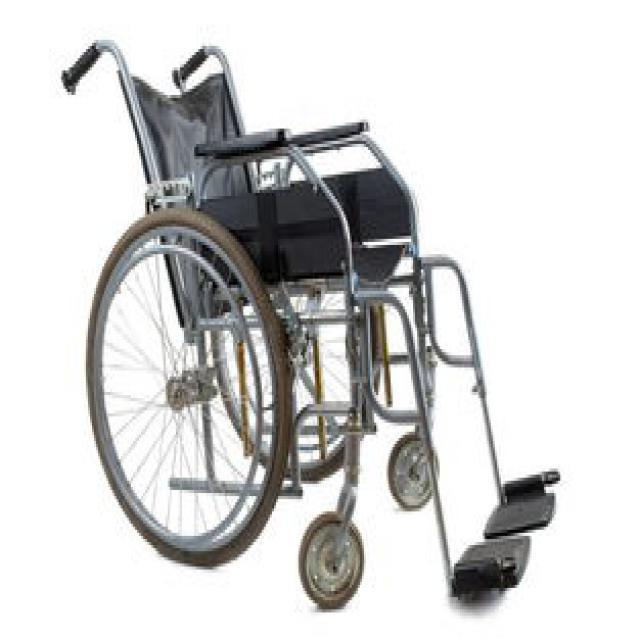wheelchair: (34, 31, 564, 618)
